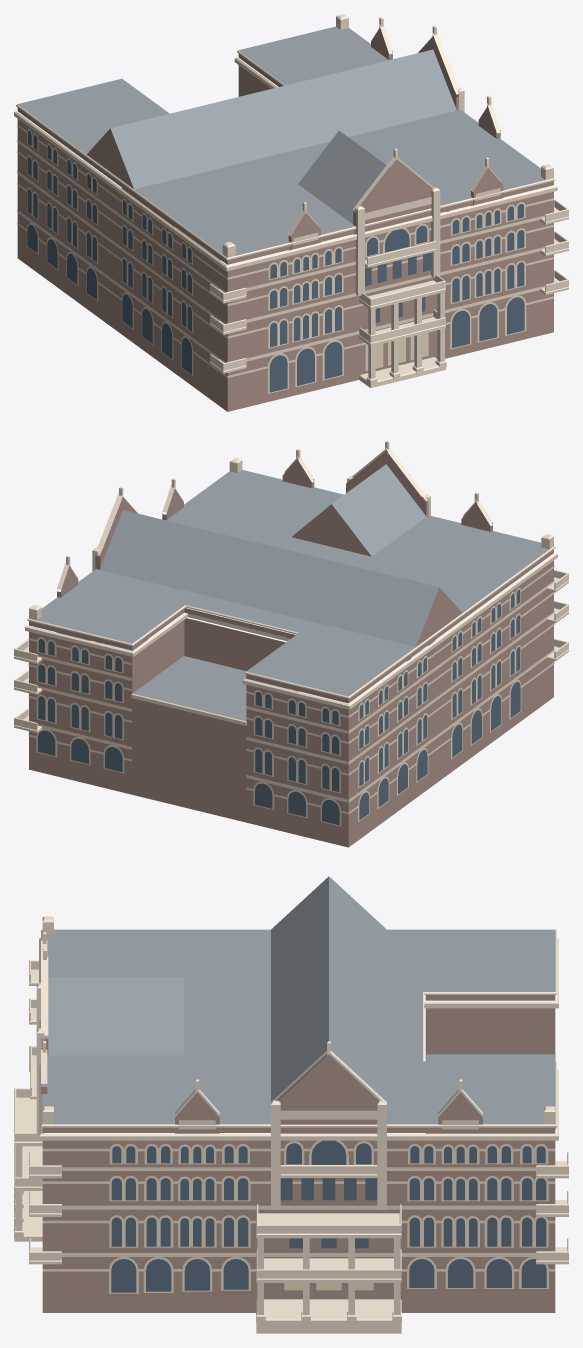
The model's file is atx-driskill-hotel.glb.
The picture shows the model from 3 angles, top to bottom: view 1: azimuth 30°, elevation 25°; view 2: azimuth 150°, elevation 25°; view 3: azimuth 270°, elevation 25°; orthographic projection. The views are drawn at different scales.
Parts seen in each view (by area): view 1: The Driskill; view 2: The Driskill; view 3: The Driskill.
Part boxes in pixels (box(x1,y1,x2,y2)): The Driskill: box(14, 14, 568, 411); The Driskill: box(14, 440, 568, 847); The Driskill: box(14, 876, 568, 1333).
Bounding box in the file's own units: 54.15 × 30.8 × 57.35.
